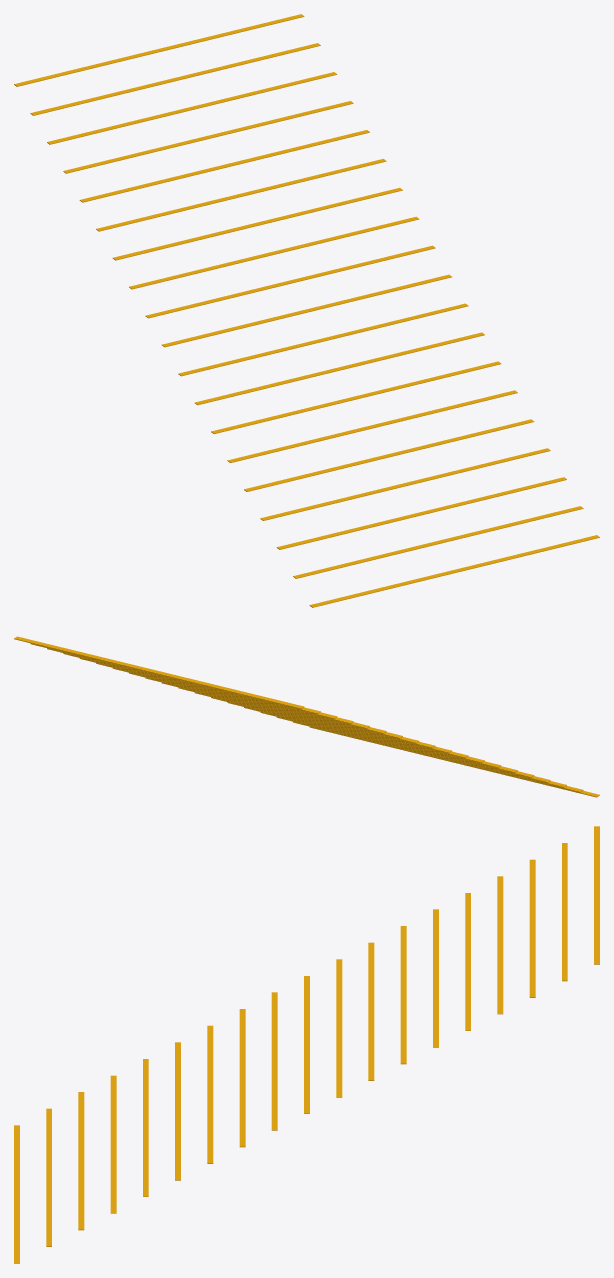
The model's file is gteki_ik_stair_n19_r170_t299_w3038_nosing.glb.
3 views of the same model, one above another, from view 1: azimuth 30°, elevation 25°; view 2: azimuth 150°, elevation 25°; view 3: azimuth 270°, elevation 25° (orthographic).
Visible parts, largest first — view 1: VIS_body; view 2: VIS_body; view 3: VIS_body.
Part boxes in pixels (x1,y1,x2,y2): VIS_body: [14, 14, 599, 607]; VIS_body: [14, 636, 599, 797]; VIS_body: [14, 826, 599, 1263].
Size of the model in its own units: 3.02 by 3.07 by 5.44.
1 material, 1 textured.
